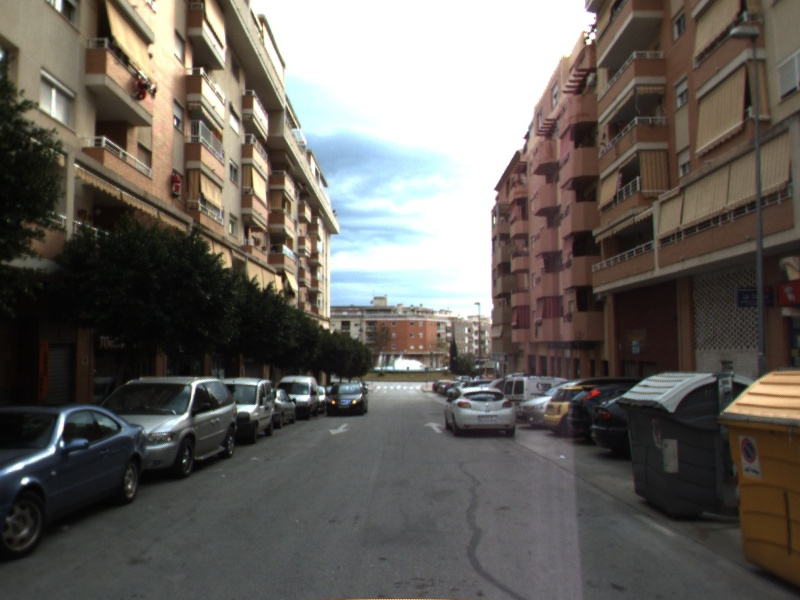STRAIGHT: (422, 420, 445, 435)
